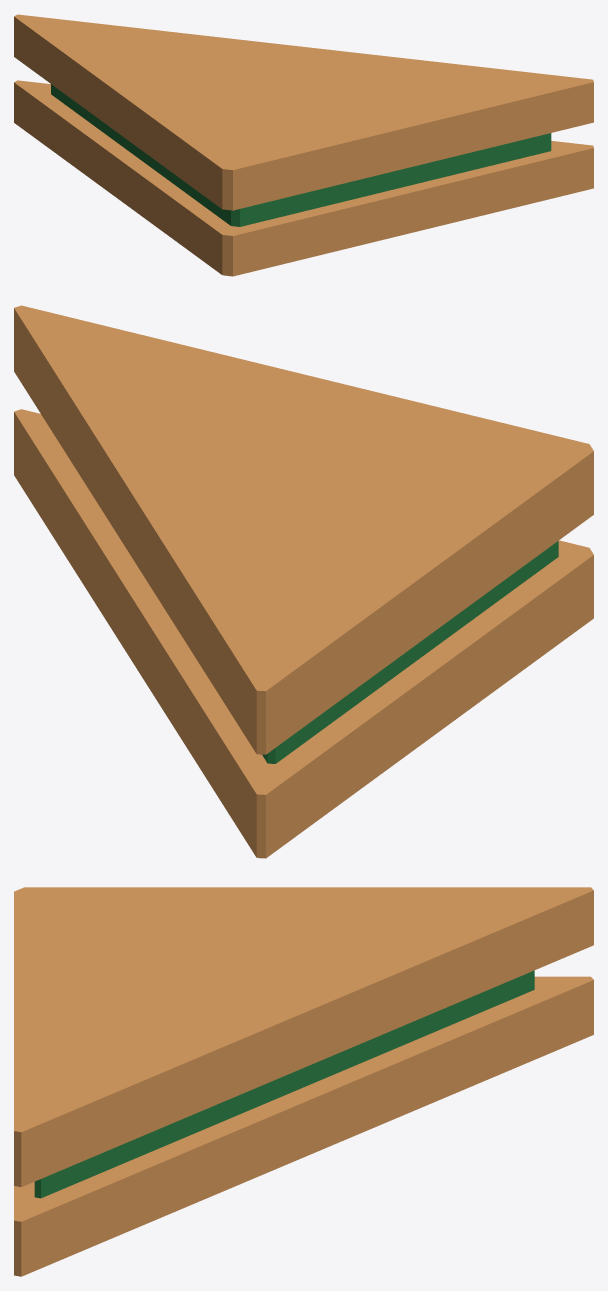
File: sandwich.fbx
3 renders of one model, top to bottom at view 1: azimuth 30°, elevation 25°; view 2: azimuth 150°, elevation 25°; view 3: azimuth 270°, elevation 25°, orthographic. The views are drawn at different scales.
Parts seen in each view (by area): view 1: Plane; view 2: Plane; view 3: Plane.
Part boxes in pixels (x1,y1,x2,y2): Plane: (14, 14, 593, 276); Plane: (14, 305, 593, 858); Plane: (14, 887, 593, 1276).
Bounding box in the file's own units: 197 × 54.26 × 197.
